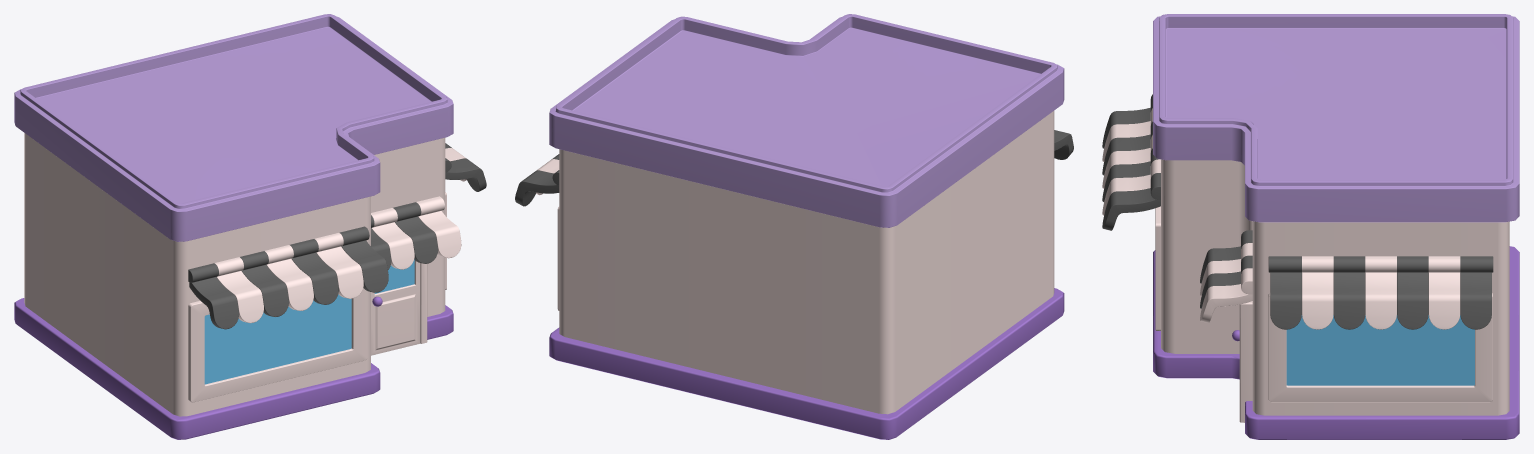
The model's file is Store_13_Music_Store_1.glb.
The picture shows the model from 3 angles, left to right: view 1: azimuth 30°, elevation 25°; view 2: azimuth 150°, elevation 25°; view 3: azimuth 270°, elevation 25°; orthographic projection. The views are drawn at different scales.
Parts seen in each view (by area): view 1: Store_13_Music_Store_1; view 2: Store_13_Music_Store_1; view 3: Store_13_Music_Store_1.
Boxes of the visible parts, left/top/right/bottom form: Store_13_Music_Store_1: left=14, top=14, right=486, bottom=439; Store_13_Music_Store_1: left=515, top=14, right=1073, bottom=439; Store_13_Music_Store_1: left=1102, top=14, right=1519, bottom=439.
Bounding box in the file's own units: 9.44 × 5.72 × 8.46.
1 material, 1 textured.
